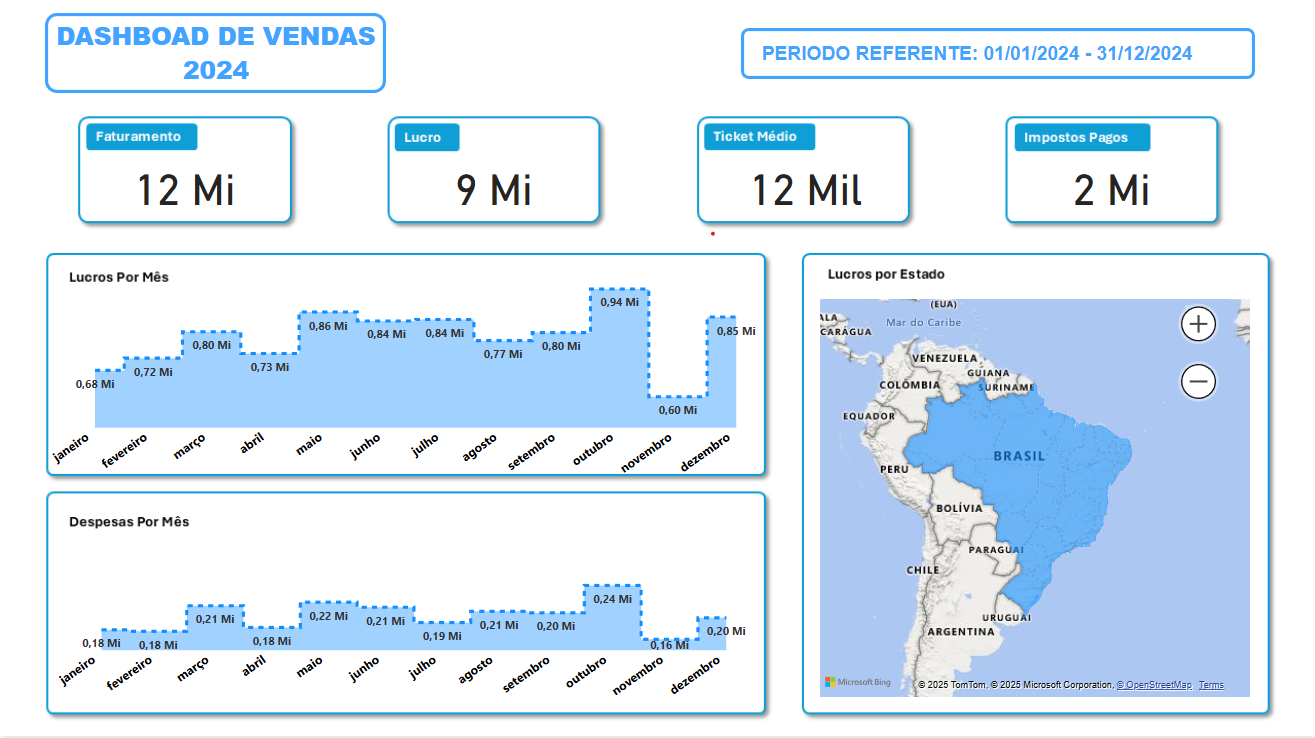

The page's visual inventory and layout, read from the dashboard file:
{"tool":"powerbi","page":{"name":"Resumo Anual","canvas":[1280,720],"ordinal":0},"visuals":[{"type":"textbox","box":[44,17,332,78],"z":0},{"type":"card","title":"TICKET MÉDIO","fields":{"Values":["Ecommerce_2024.Ticket Medio"]},"box":[680,149,207,70],"z":1000},{"type":"card","title":"FATURAMENTO","fields":{"Values":["Ecommerce_2024.Fauramento Anual"]},"box":[77,149,205,70],"z":2000},{"type":"lineChart","title":"TOTAIS MENSAIS","fields":{"Category":["Ecommerce_2024.Data.Variation.Hierarquia de datas.Mês"],"Y":["Ecommerce_2024.LUCRO"]},"box":[44,252,700,233],"z":3000},{"type":"textbox","box":[680,40,541,32],"z":4000},{"type":"card","title":"LUCRO ","fields":{"Values":["Ecommerce_2024.LUCRO"]},"box":[376,149,207,70],"z":5000},{"type":"filledMap","fields":{"Category":["Ecommerce_2024.EstadoExtenso"]},"box":[793,290,428,397],"z":6000},{"type":"lineChart","fields":{"Y":["Ecommerce_2024.Total de Imposto Pago"],"Category":["Ecommerce_2024.Data.Variation.Hierarquia de datas.Mês"]},"box":[51,522,683,173],"z":7000},{"type":"card","fields":{"Values":["Ecommerce_2024.Total de Imposto Pago"]},"box":[978,149,205,70],"z":8000},{"type":"shape","box":[43.8,16.5,331.7,77.8],"z":8001},{"type":"shape","box":[720.7,31.1,499.9,49.6],"z":8002}]}

Visuals, with their boxes in screenshot pixels (x1, y1, x2, y2), scaled from the page's 1280x720 canvas onto the 1315x738 screenshot:
textbox: crop(45, 17, 386, 97)
"TICKET MÉDIO" card: crop(699, 153, 911, 224)
"FATURAMENTO" card: crop(79, 153, 290, 224)
"TOTAIS MENSAIS" lineChart: crop(45, 258, 764, 497)
textbox: crop(699, 41, 1254, 74)
"LUCRO " card: crop(386, 153, 599, 224)
filledMap - Ecommerce_2024.EstadoExtenso: crop(815, 297, 1254, 704)
lineChart - Ecommerce_2024.Total de Imposto Pago x Ecommerce_2024.Data.Variation.Hierarquia de datas.Mês: crop(52, 535, 754, 712)
card - Ecommerce_2024.Total de Imposto Pago: crop(1005, 153, 1215, 224)
shape: crop(45, 17, 386, 97)
shape: crop(740, 32, 1254, 83)
